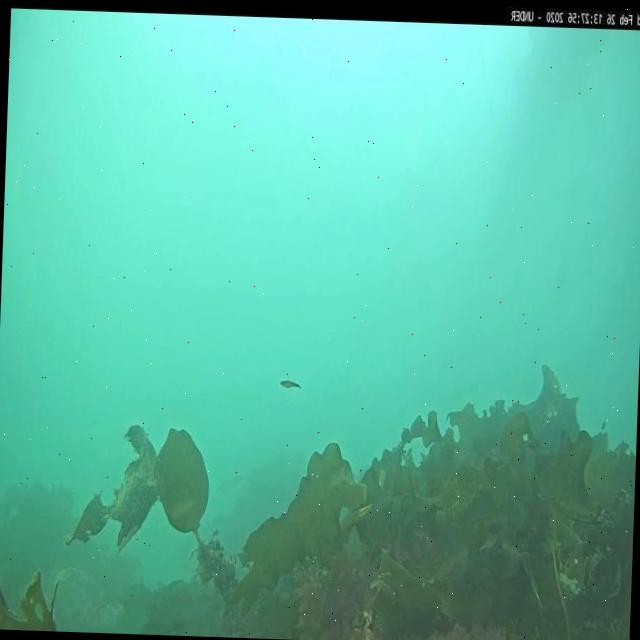fish: (279, 379, 300, 392)
